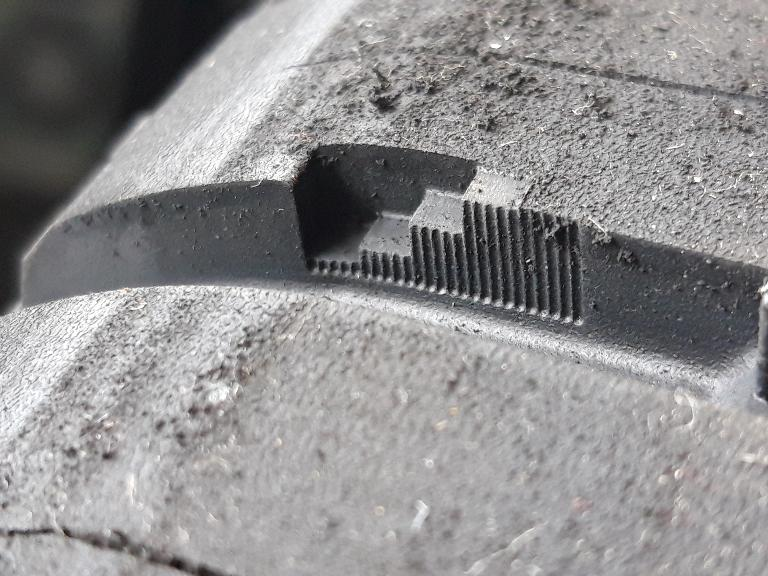temoin:75: (281, 134, 541, 323)
